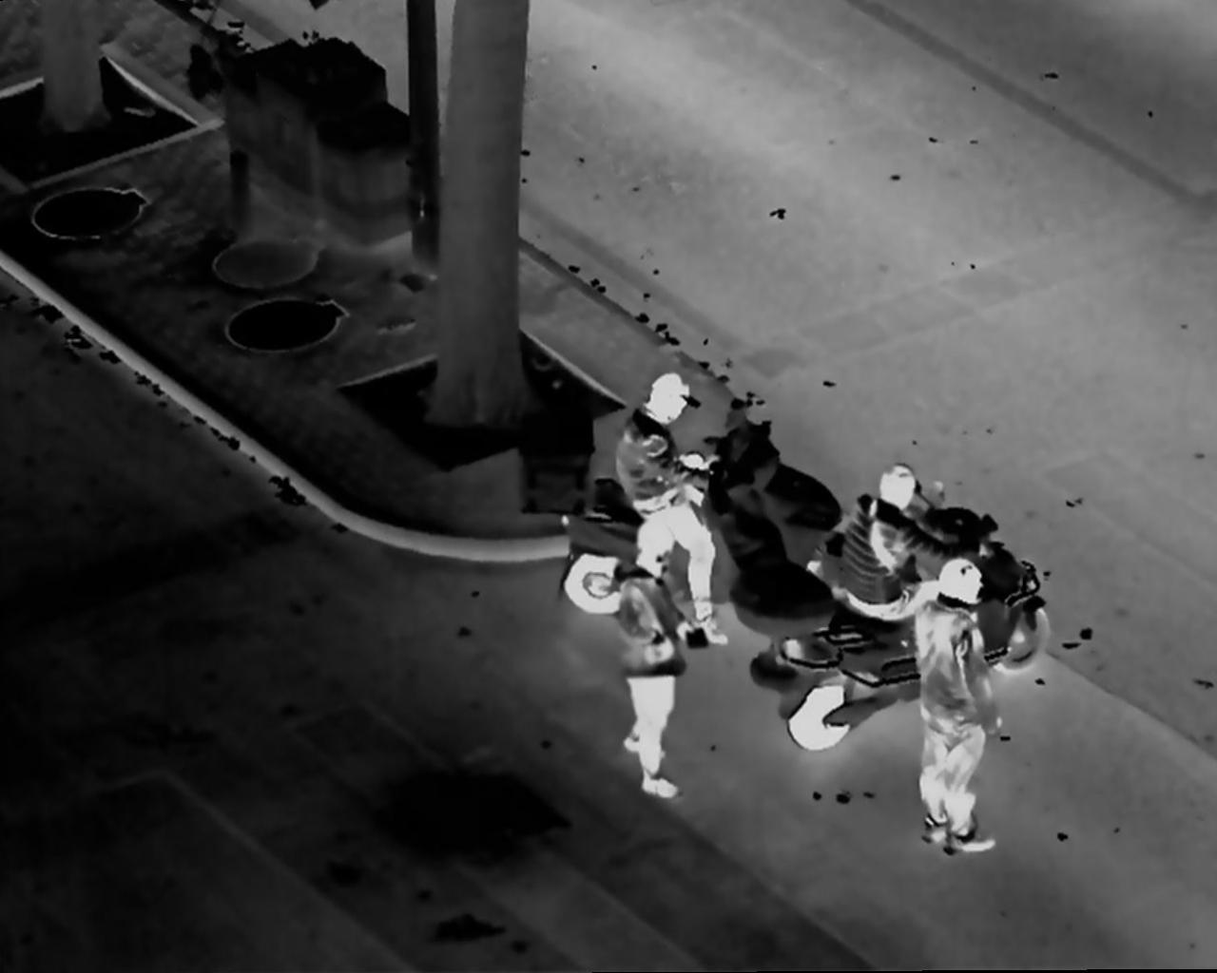person: (907, 545, 1014, 865), (611, 367, 732, 644), (600, 508, 694, 802), (836, 438, 953, 630)
